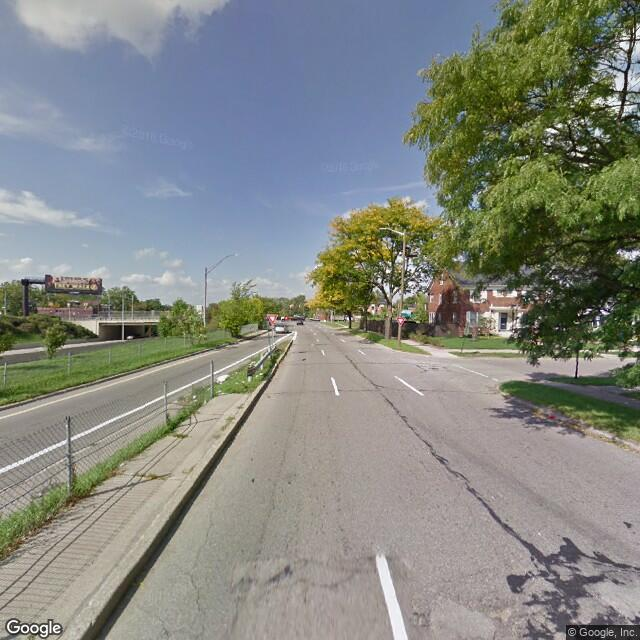litter: (215, 372, 230, 383), (117, 458, 126, 467), (547, 412, 555, 420)
